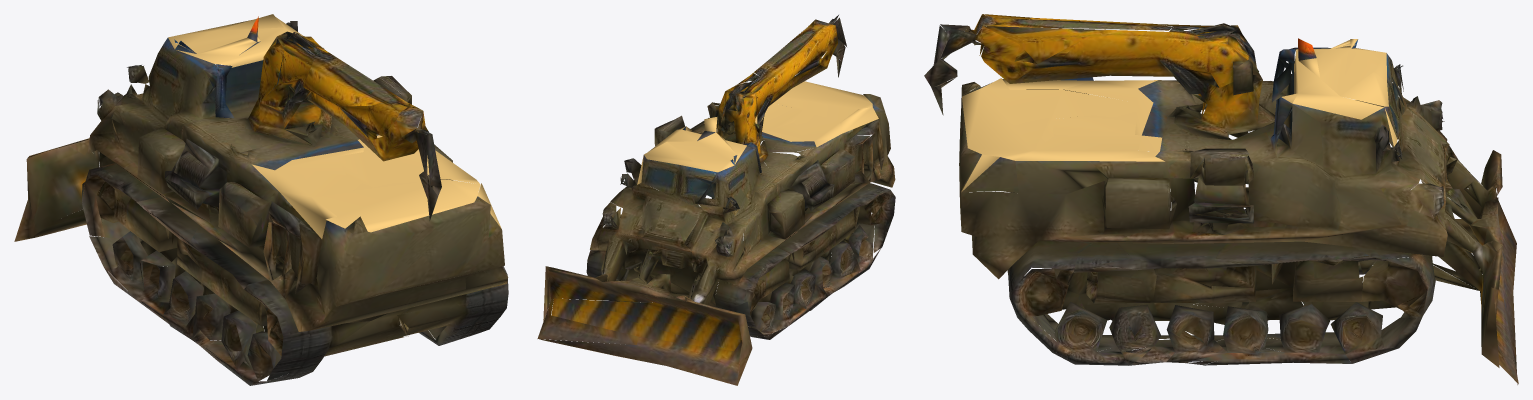
The model's file is constructor.glb.
3 views of the same model, side by side, from view 1: azimuth 30°, elevation 25°; view 2: azimuth 150°, elevation 25°; view 3: azimuth 270°, elevation 25° (orthographic). The views are drawn at different scales.
Visible parts, largest first — view 1: Model; view 2: Model; view 3: Model.
Part boxes in pixels (left/top/right/bottom): Model: left=14, top=14, right=508, bottom=385; Model: left=537, top=15, right=895, bottom=385; Model: left=924, top=14, right=1518, bottom=384.
Bounding box in the file's own units: 0.8126 × 0.7955 × 1.45.
2 materials, 1 textured.
